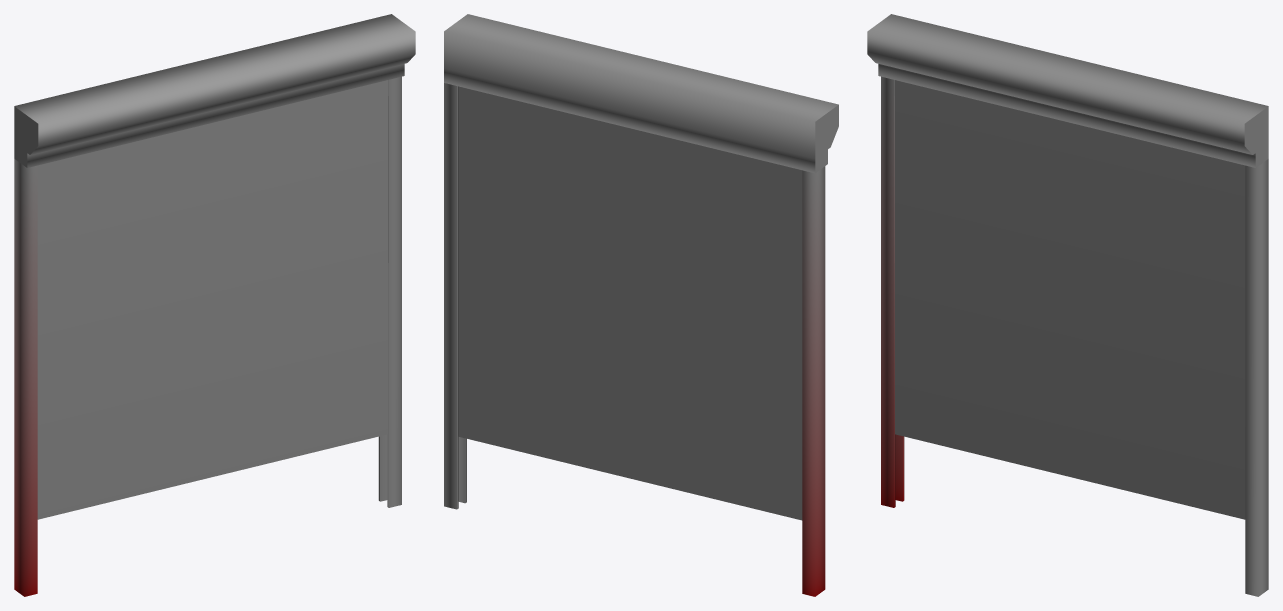
The model's file is SM_RollingShutter.gltf.
The picture shows the model from 3 angles, left to right: view 1: azimuth 30°, elevation 25°; view 2: azimuth 150°, elevation 25°; view 3: azimuth 330°, elevation 25°; orthographic projection.
Parts seen in each view (by area): view 1: SM_RollingShutter; view 2: SM_RollingShutter; view 3: SM_RollingShutter.
Part boxes in pixels (bbox=[...]): SM_RollingShutter: bbox=[14, 14, 415, 596]; SM_RollingShutter: bbox=[444, 14, 838, 596]; SM_RollingShutter: bbox=[867, 14, 1268, 596].
Size of the model in its own units: 3.16 by 3.87 by 0.35.
